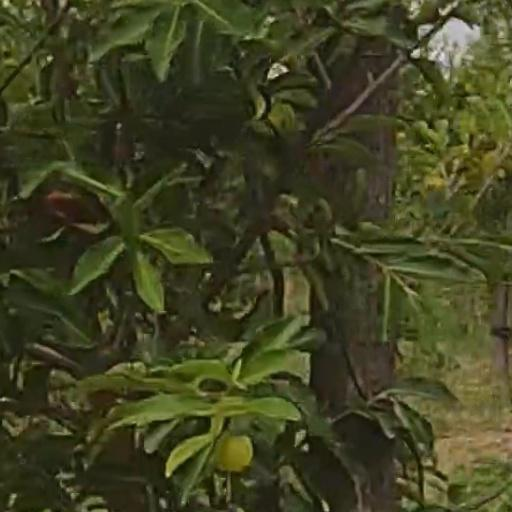acerola_verde: (216, 434, 252, 472)
